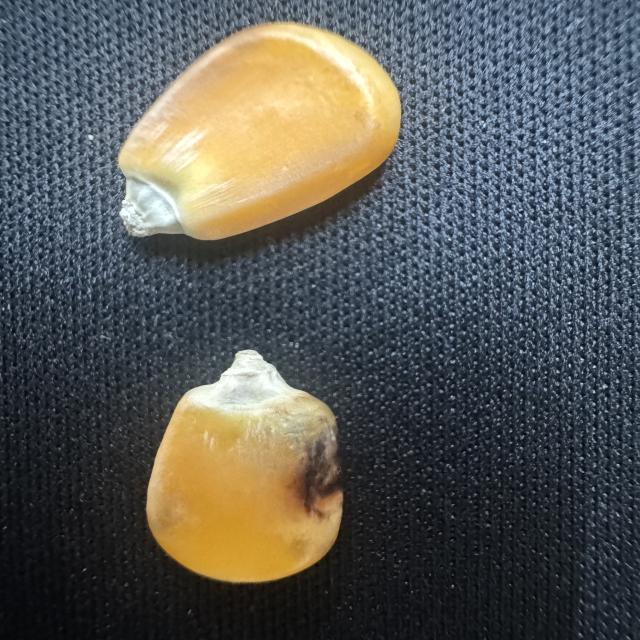Bad-Seed: (134, 338, 350, 586)
Good-Seed: (104, 16, 418, 249)
